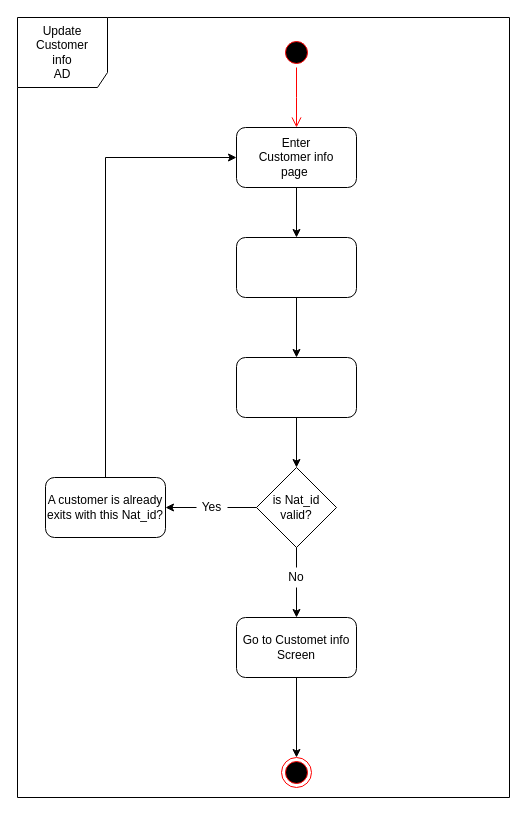
Image size: 527x815. Some labels were removed from this diagram. The centre of each missing label's shape, as x and y in pixels:
Click to pencil icon: [296,267]
Open customer info update page: [296,387]
